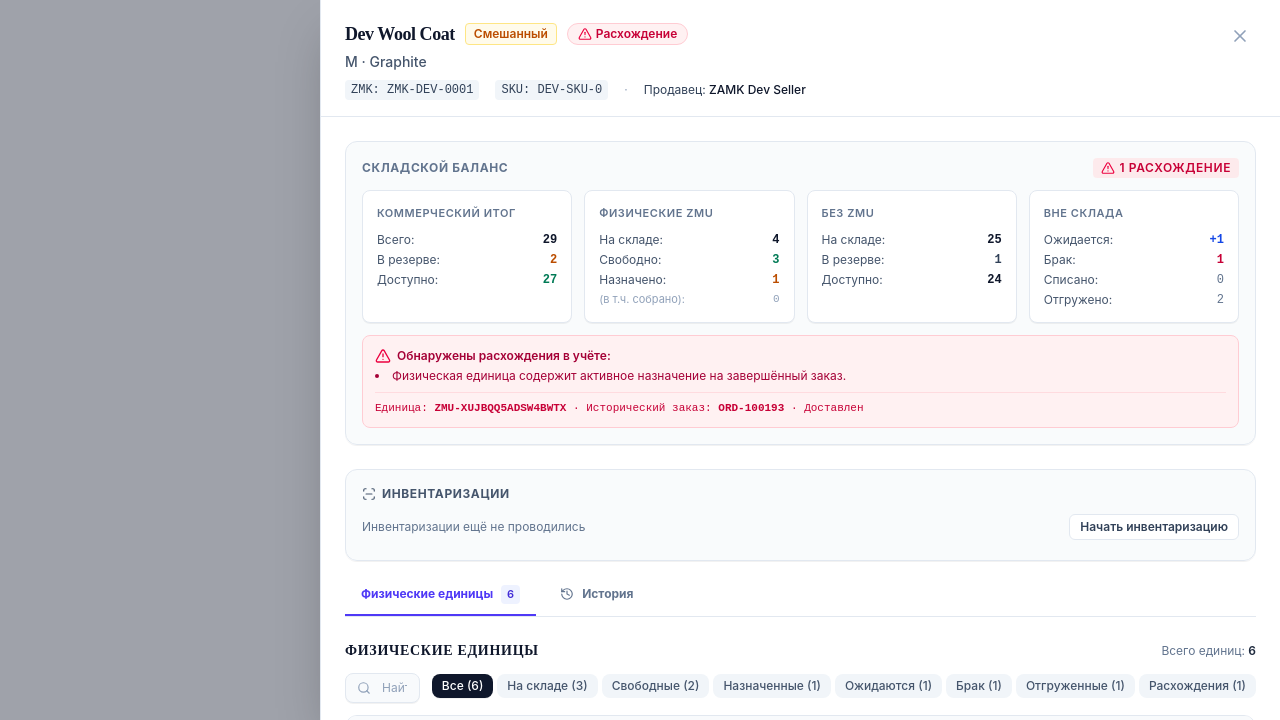
Test: VariantInventoryDrawer › filters units by local search input
Type "BRFEA757" into the field with placeholder "Найти ZMU..." at (382, 688), box top-left (345, 673), bottom-right (420, 703)
(page scrolled)
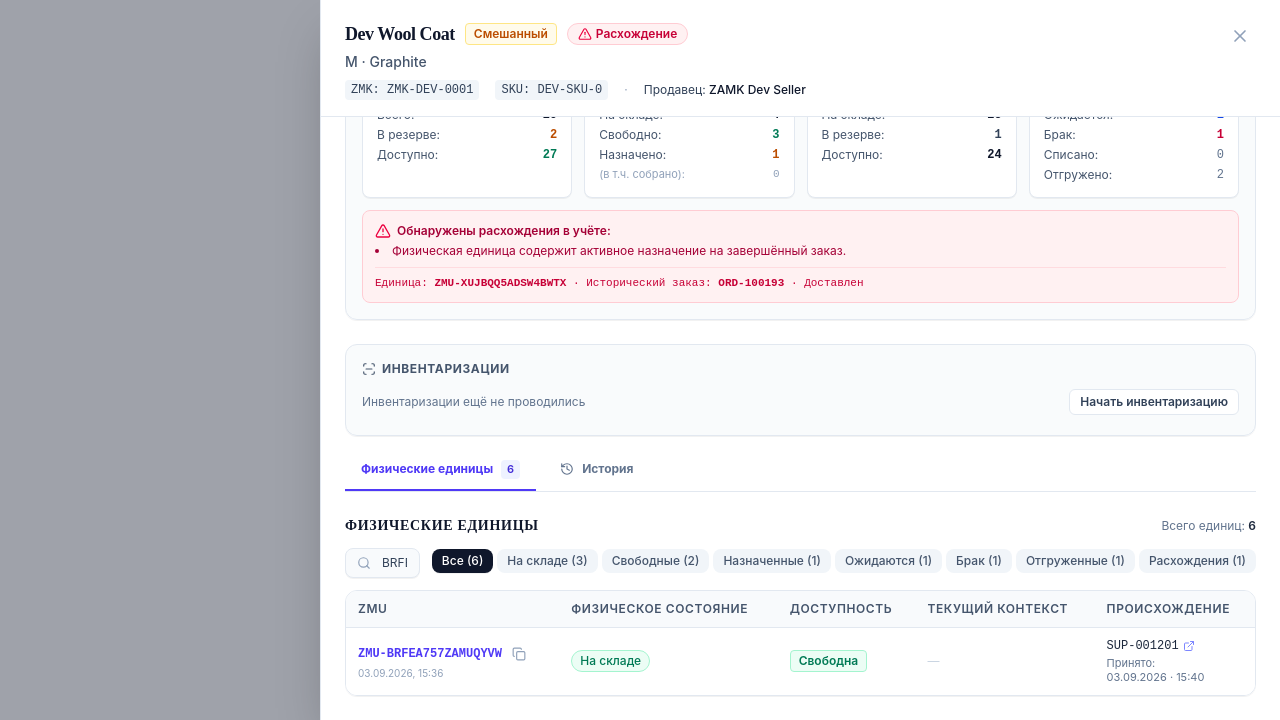
expect the button "ZMU-BRFEA757ZAMUQYVW" is shown: met, box top-left (358, 646), bottom-right (502, 662)
